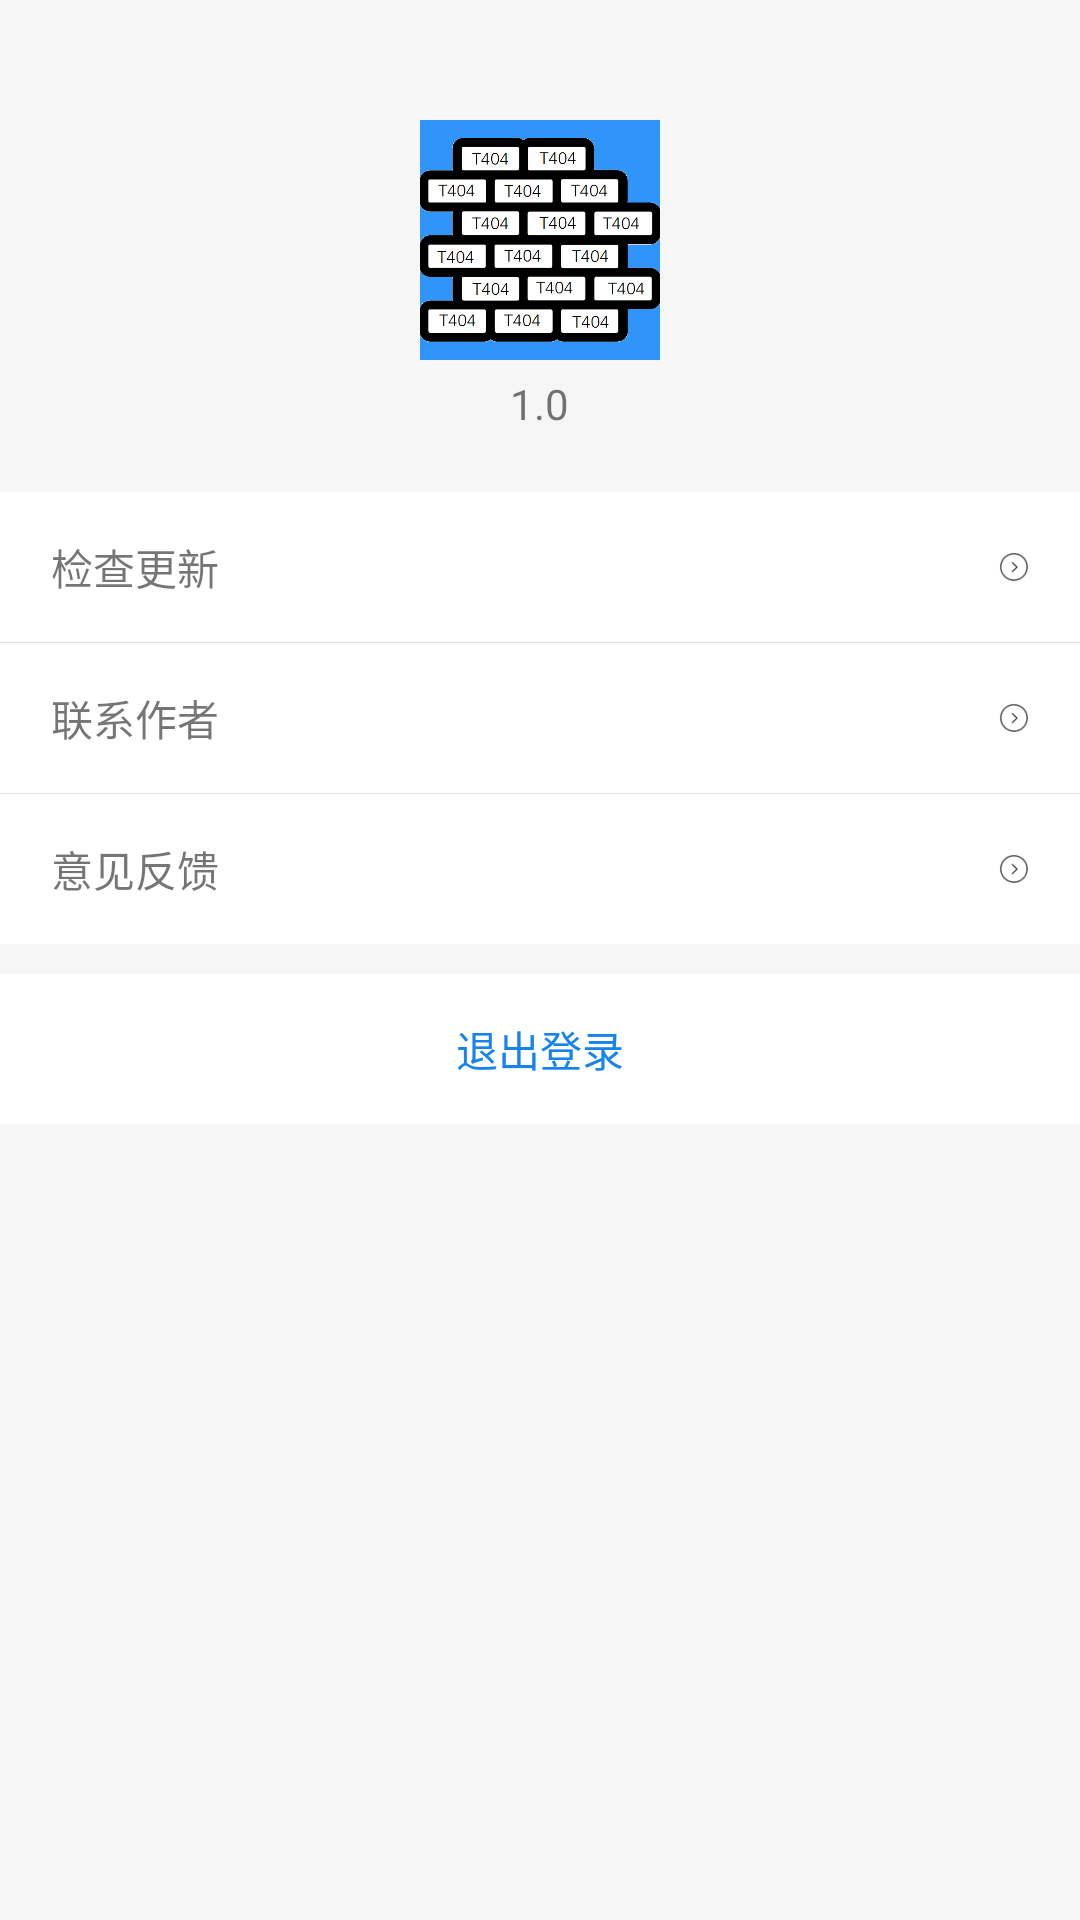

Icon bounding boxes for this 1080 x 1920 phone screenshot, format box=[x1, y1, x2, y2]:
forward: box=[1000, 553, 1028, 581], box=[1000, 704, 1028, 732], box=[1000, 855, 1028, 883]
